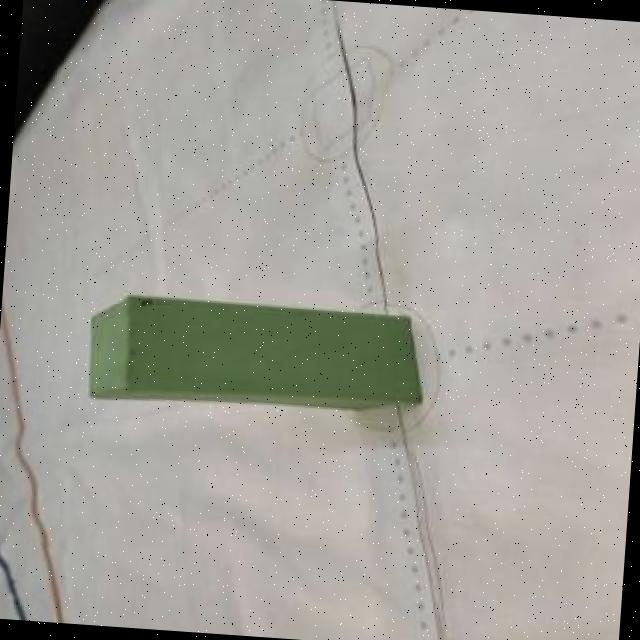greenbox: (80, 290, 431, 425)
